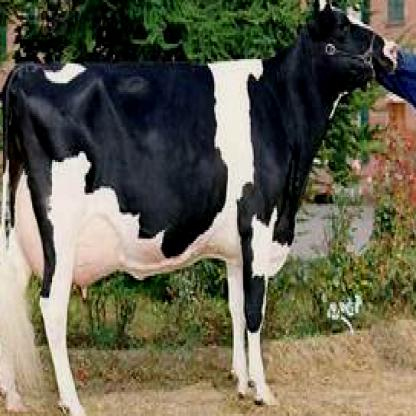cow: (1, 0, 400, 414)
